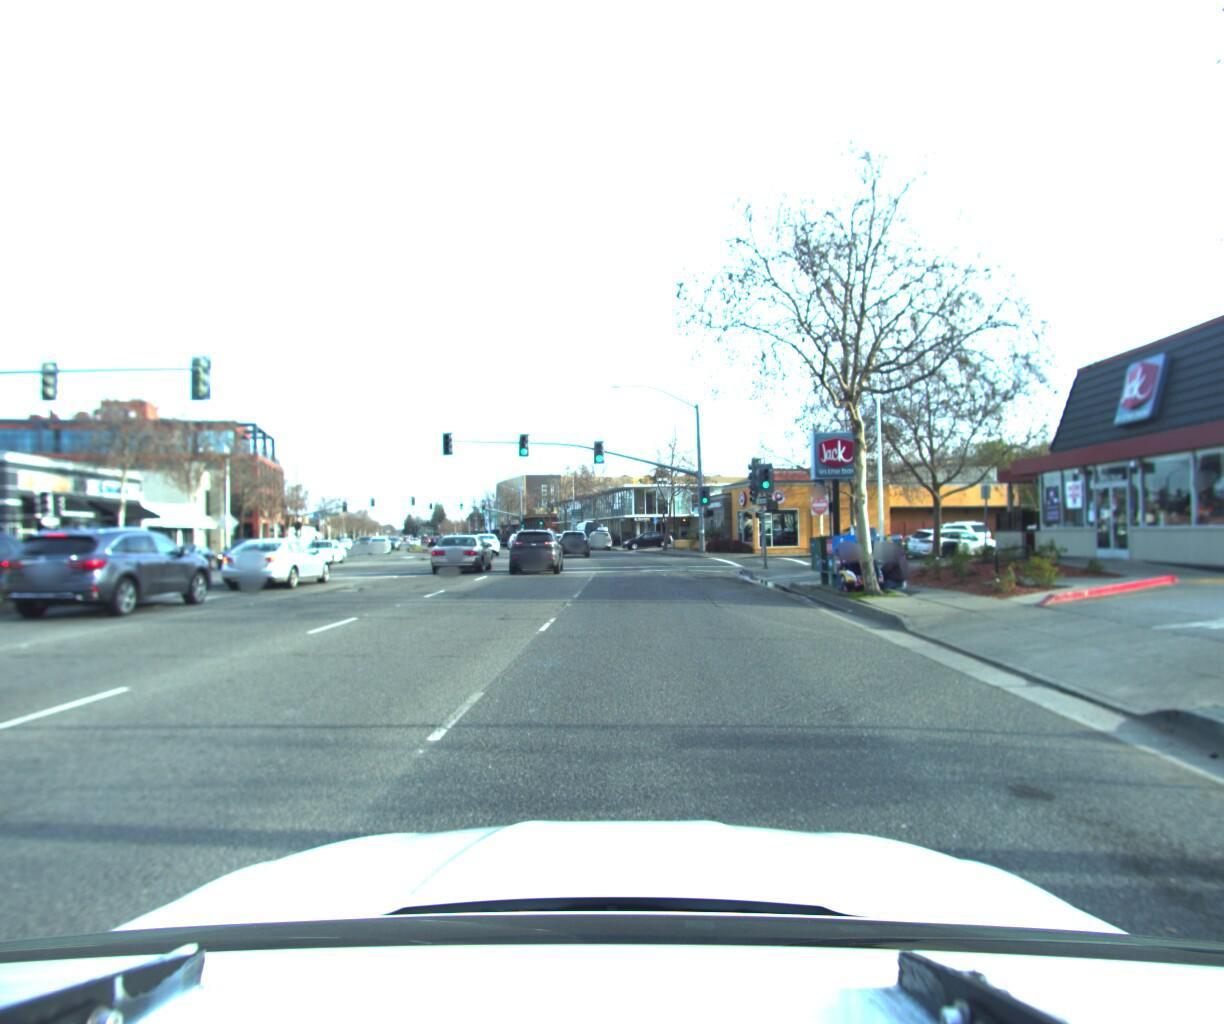car: (217, 532, 338, 592), (896, 515, 1000, 555), (427, 531, 498, 576), (503, 526, 567, 575), (806, 519, 902, 551), (209, 536, 283, 573), (157, 540, 229, 573), (291, 534, 351, 569), (618, 523, 680, 544), (556, 524, 588, 556), (471, 529, 502, 554), (585, 524, 614, 545), (364, 532, 392, 553)
